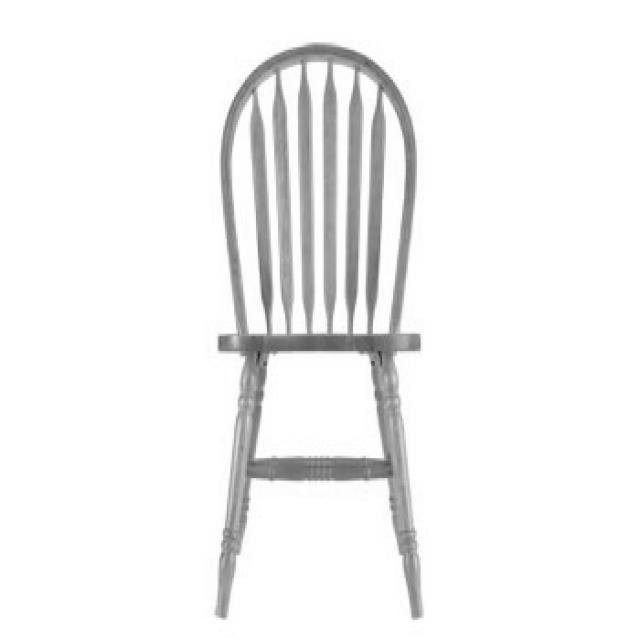chair: (214, 41, 424, 622)
